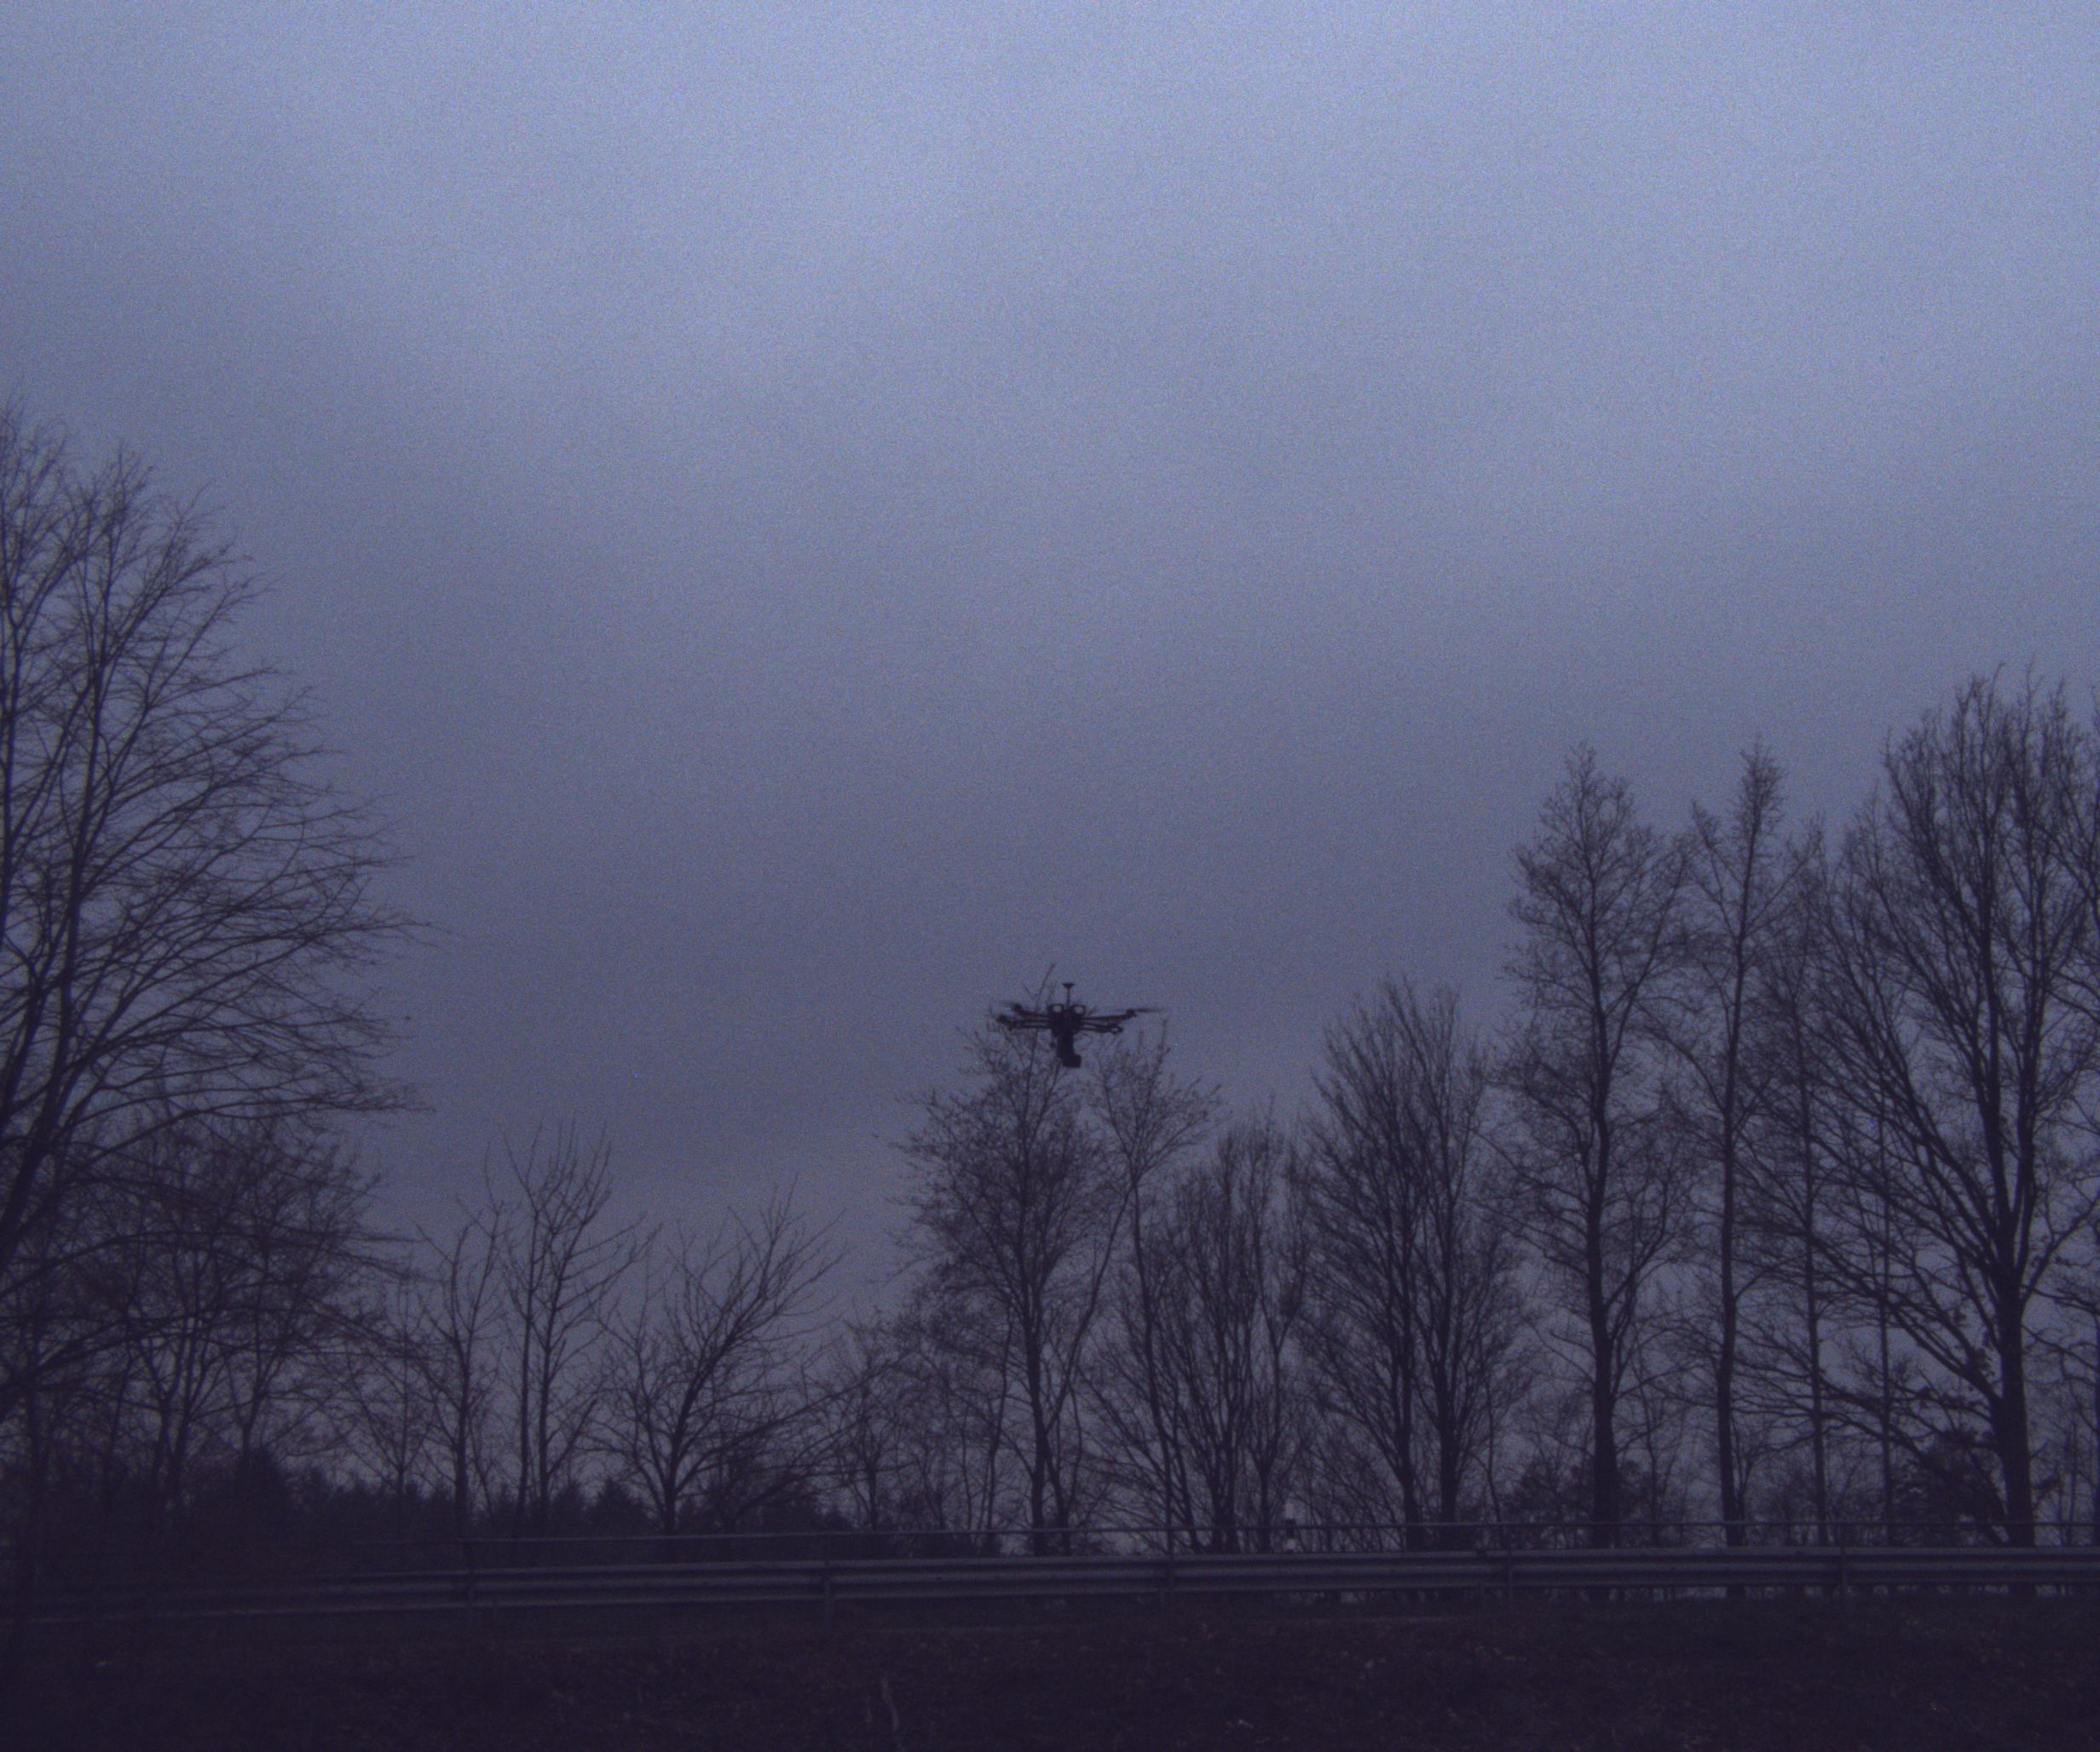Drohne: (977, 968, 1202, 1105)
